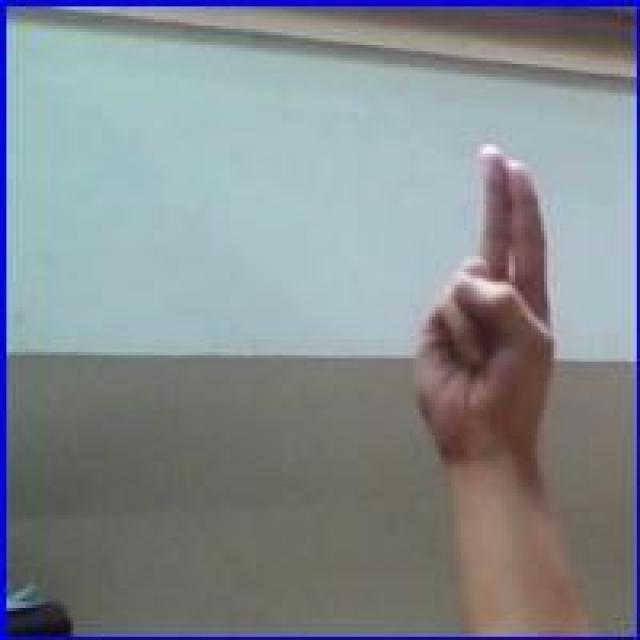U: (404, 144, 566, 454)
